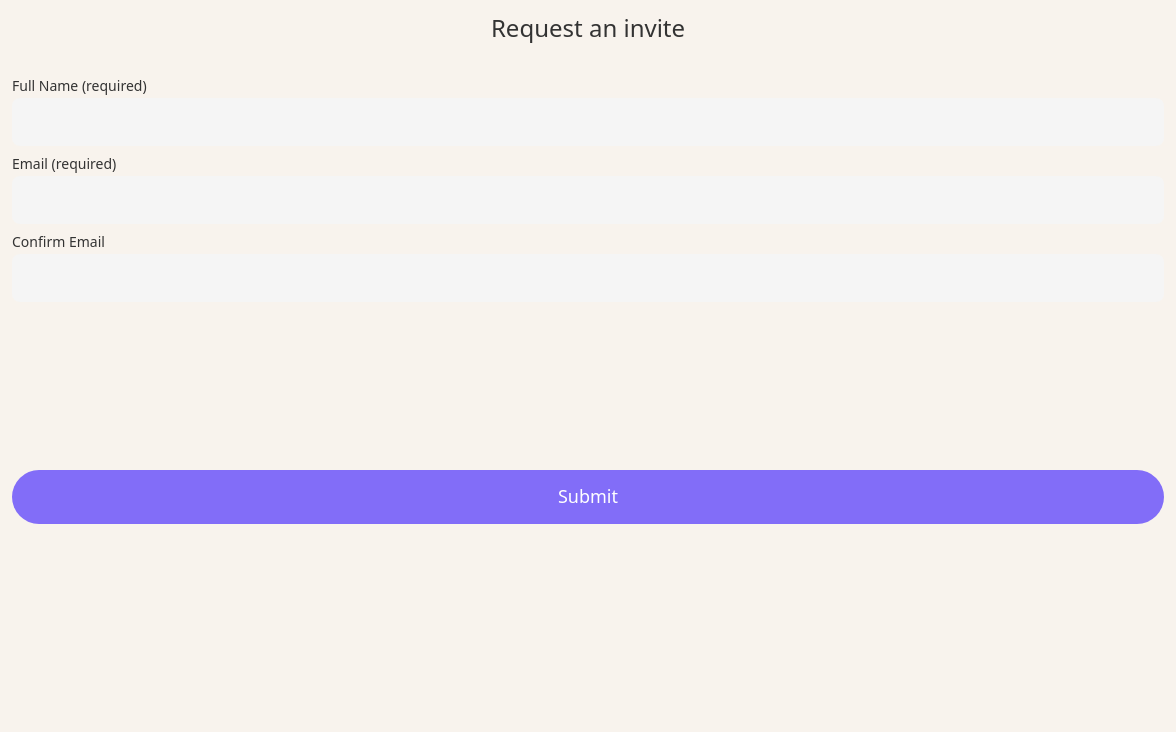
renders required errors
Step 1. Click the button "Submit" → (588, 497), box [12,470,1164,524]
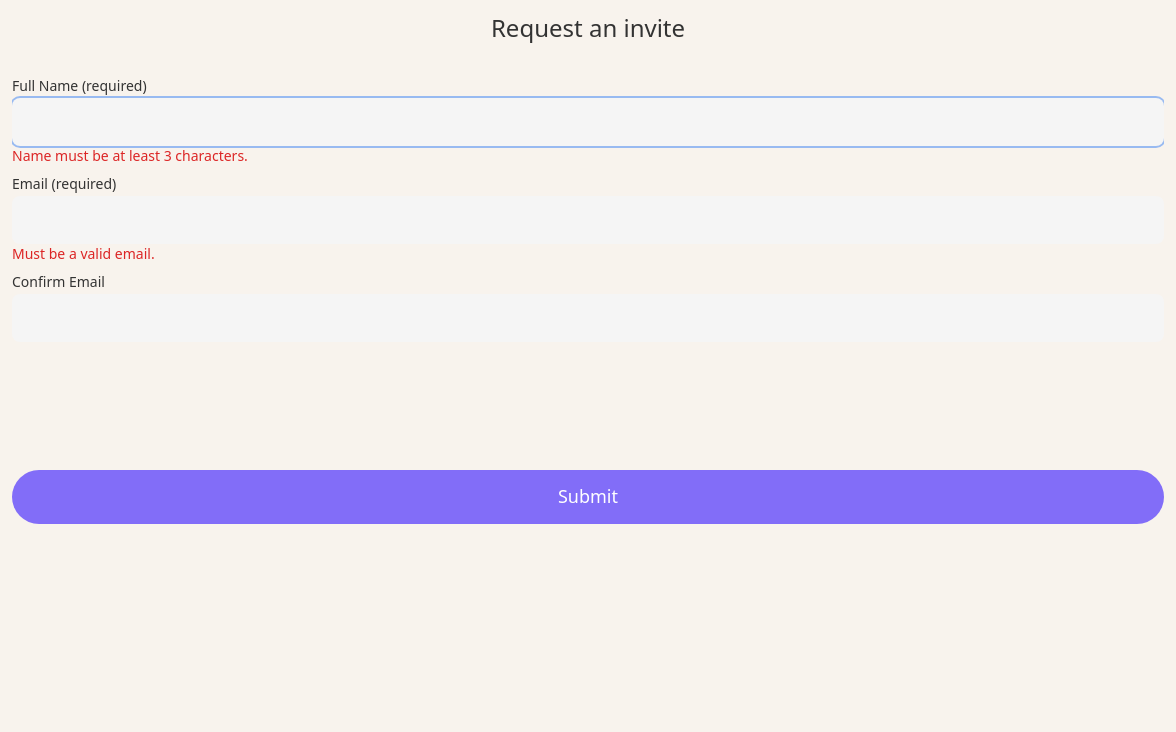
Expected: the text "Name must be at least 3 characters." is shown, [12,146,248,165]
Expected: the text "Must be a valid email." is shown, [12,244,155,263]
